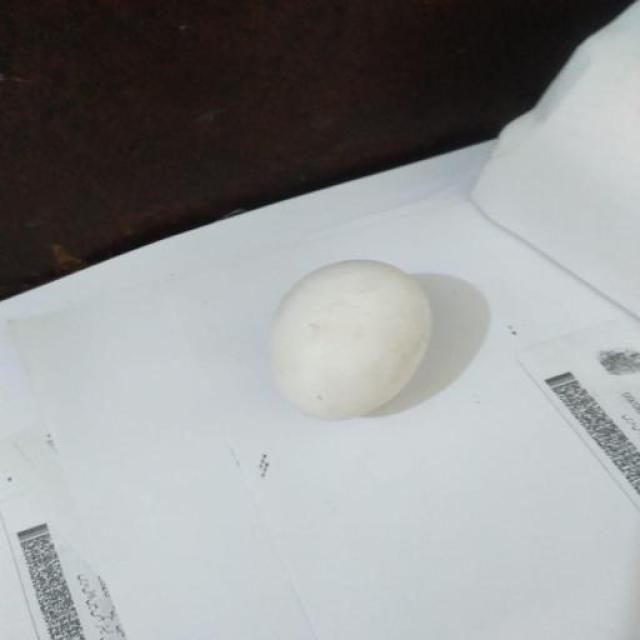telur: (267, 256, 436, 420)
